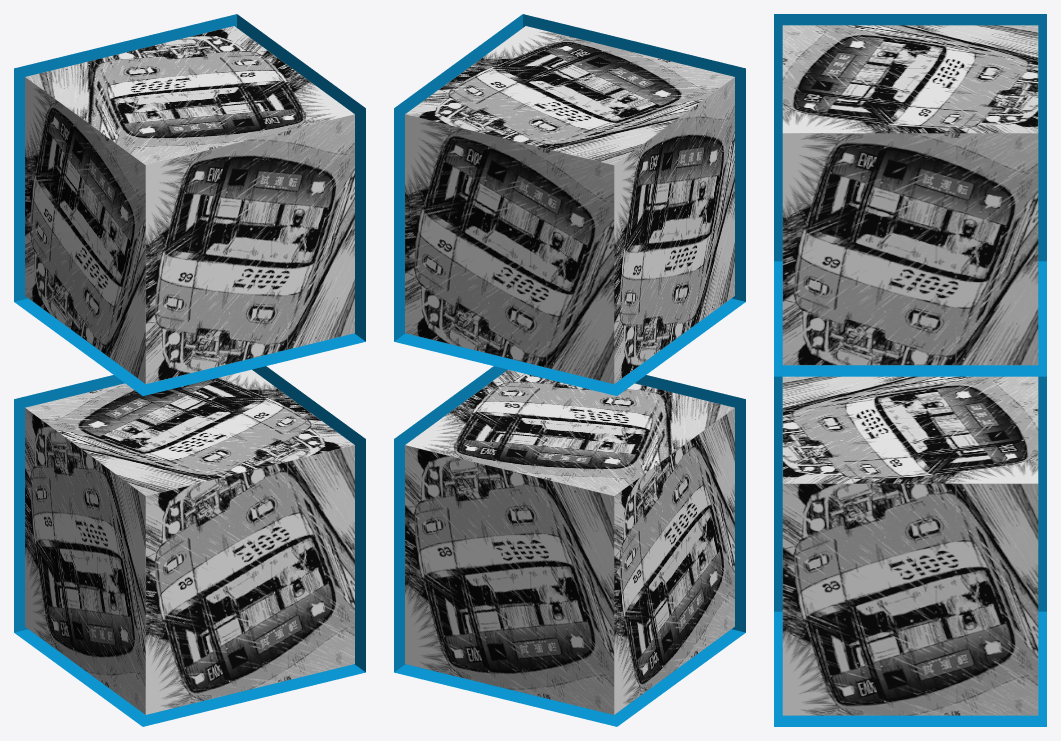
File: ICON_2199.glb
3 renders of one model, left to right at view 1: azimuth 30°, elevation 25°; view 2: azimuth 150°, elevation 25°; view 3: azimuth 270°, elevation 25°, orthographic. The views are drawn at different scales.
Visible parts, largest first — view 1: ICON_2199, obj9, obj3, obj12; view 2: ICON_2199, obj9, obj3, obj12; view 3: ICON_2199, obj9, obj3, obj12.
Part boxes in pixels (x1=…): ICON_2199: x1=25, y1=26, x2=354, y2=383; obj9: x1=25, y1=369, x2=354, y2=714; obj3: x1=14, y1=14, x2=365, y2=395; obj12: x1=14, y1=366, x2=365, y2=726; ICON_2199: x1=405, y1=26, x2=734, y2=383; obj9: x1=405, y1=369, x2=734, y2=714; obj3: x1=394, y1=14, x2=745, y2=395; obj12: x1=394, y1=366, x2=745, y2=726; ICON_2199: x1=782, y1=25, x2=1038, y2=365; obj9: x1=782, y1=376, x2=1038, y2=715; obj3: x1=774, y1=14, x2=1046, y2=376; obj12: x1=774, y1=376, x2=1046, y2=726.
Bounding box in the file's own units: 2.4 × 5.8 × 2.4.
10 materials, 10 textured.
